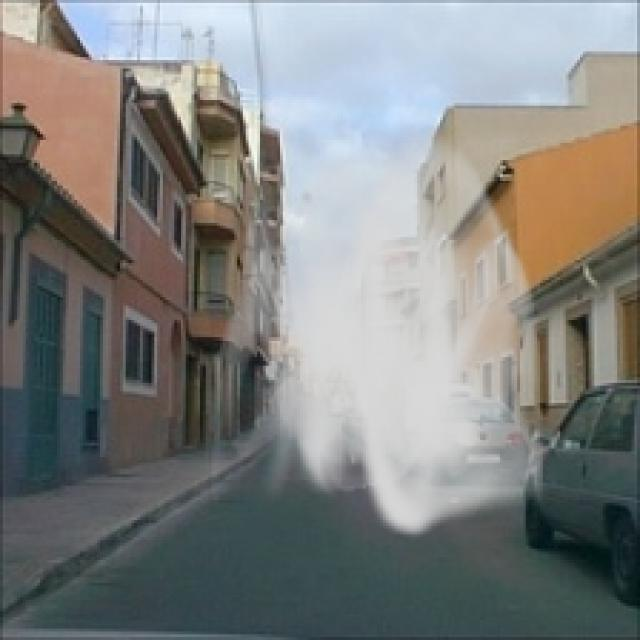Smoke: (202, 120, 554, 540)
